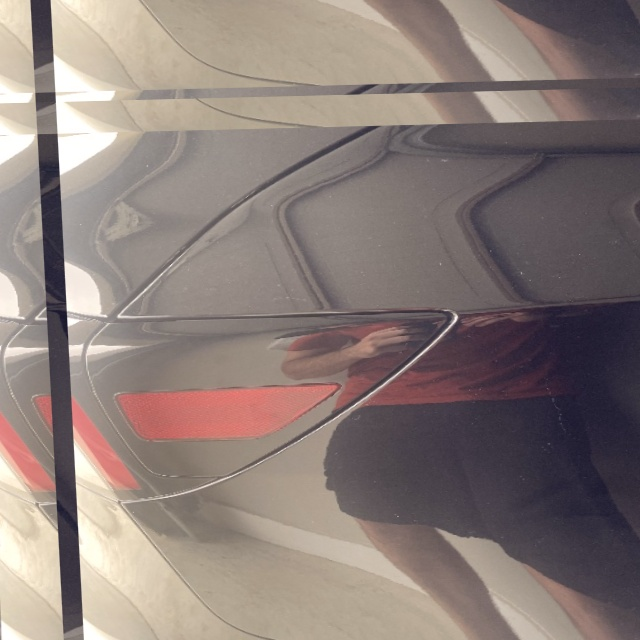reflector: (111, 383, 342, 442)
